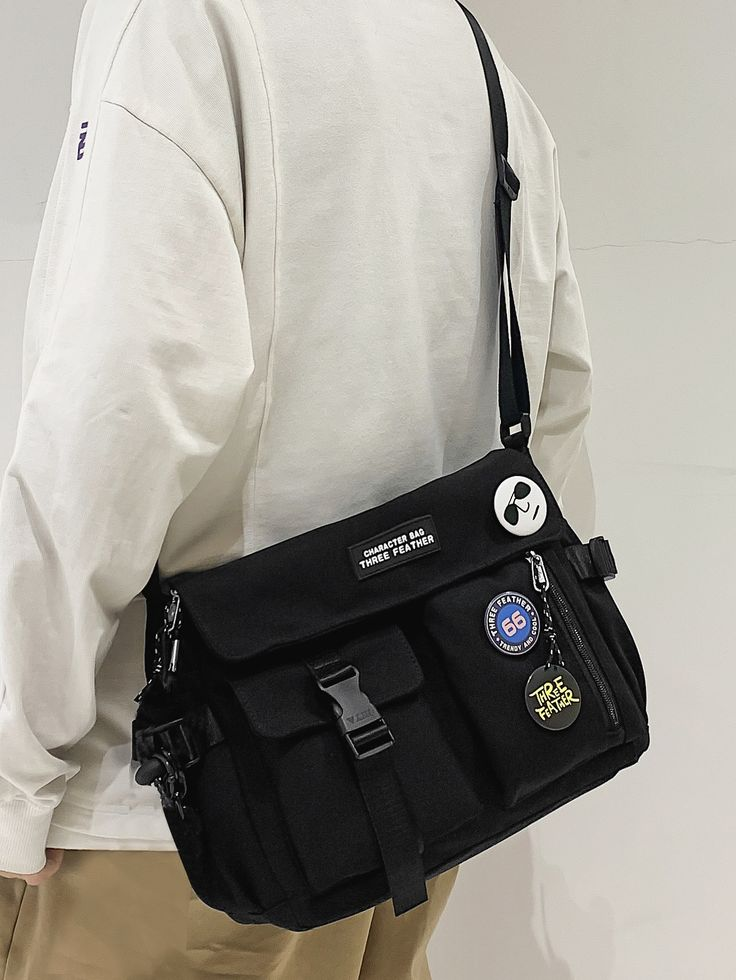nylon: (129, 445, 651, 934)
